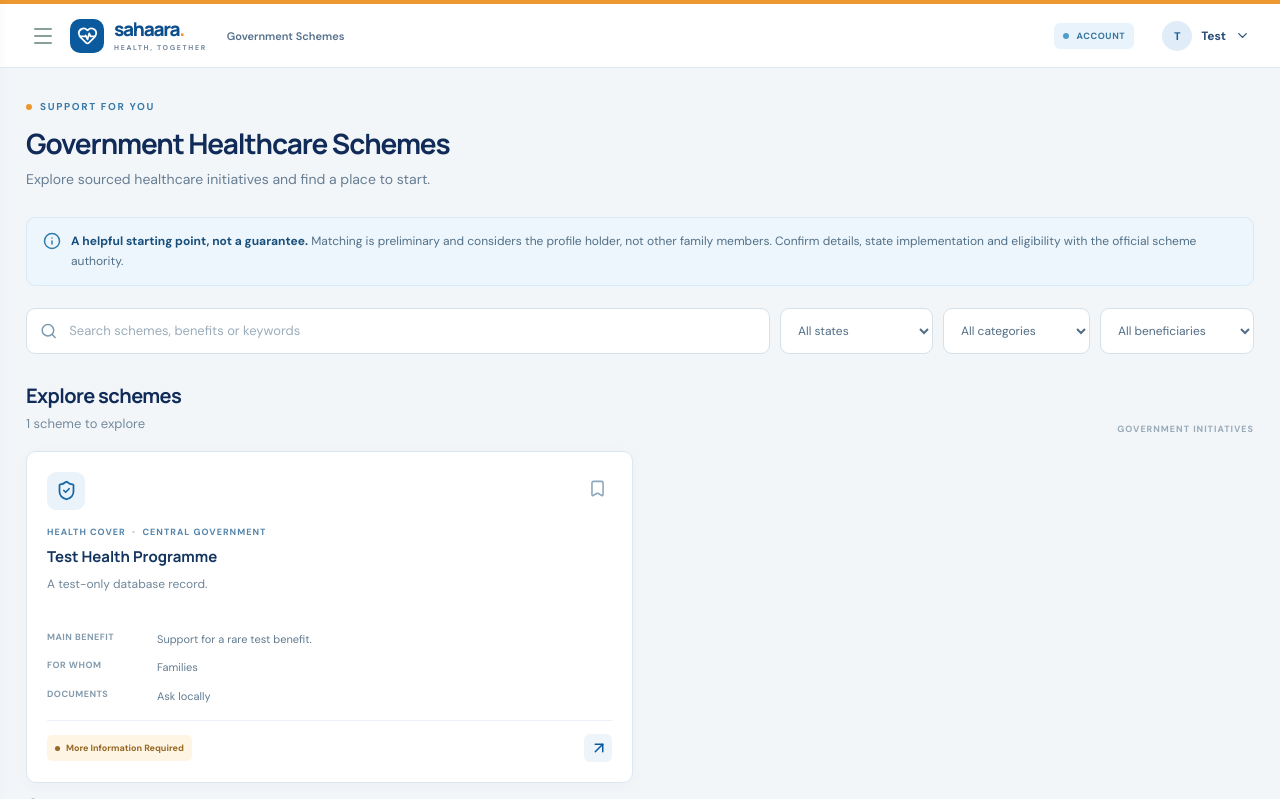
it: account scheme search, details and save update the existing UI through API calls
Earlier steps of the test are not shown.
Expected: the button "Test Health Programme" is shown, [47,546,217,567]
In the field with placeholder "Search schemes, benefits or keywords": (412, 331) [67,309,756,353], type "rare test benefit"
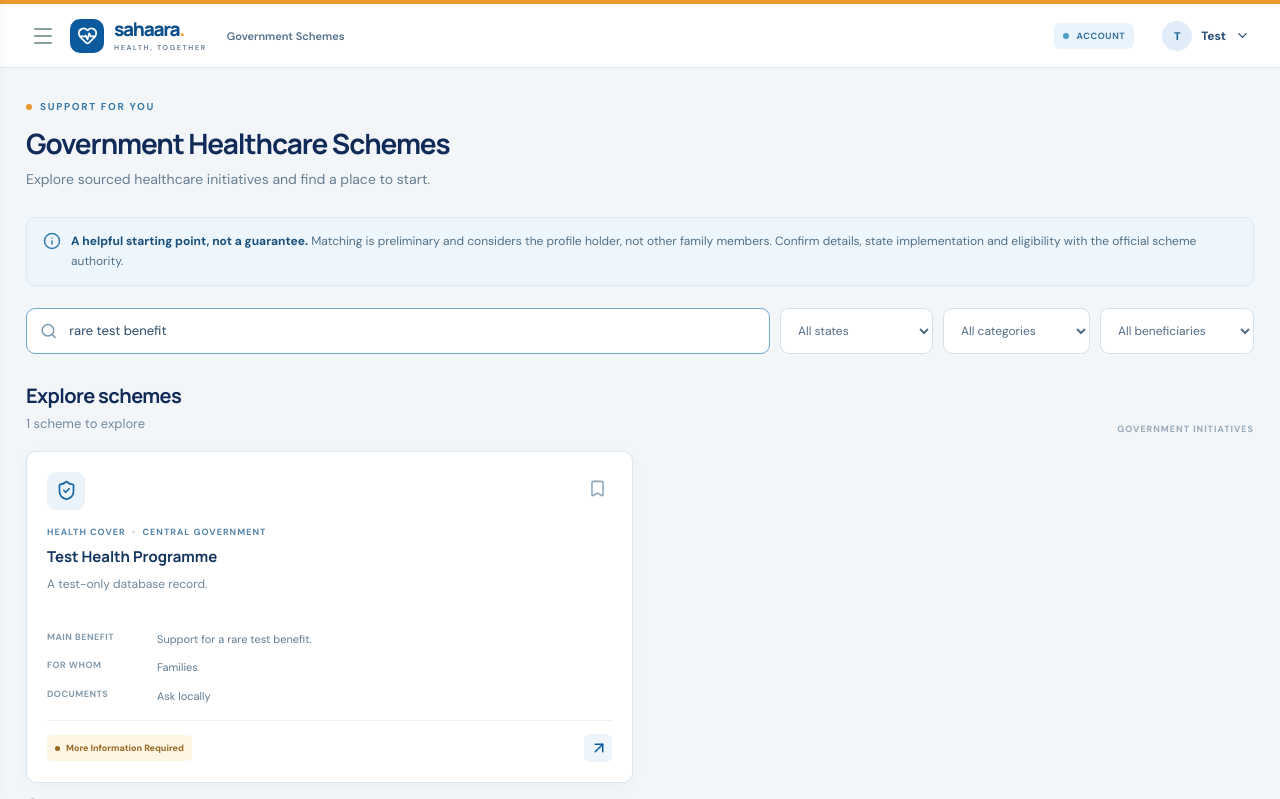
Select "Health cover" in the dropdown named "Filter by category": (1016, 331) [943,308,1090,354]
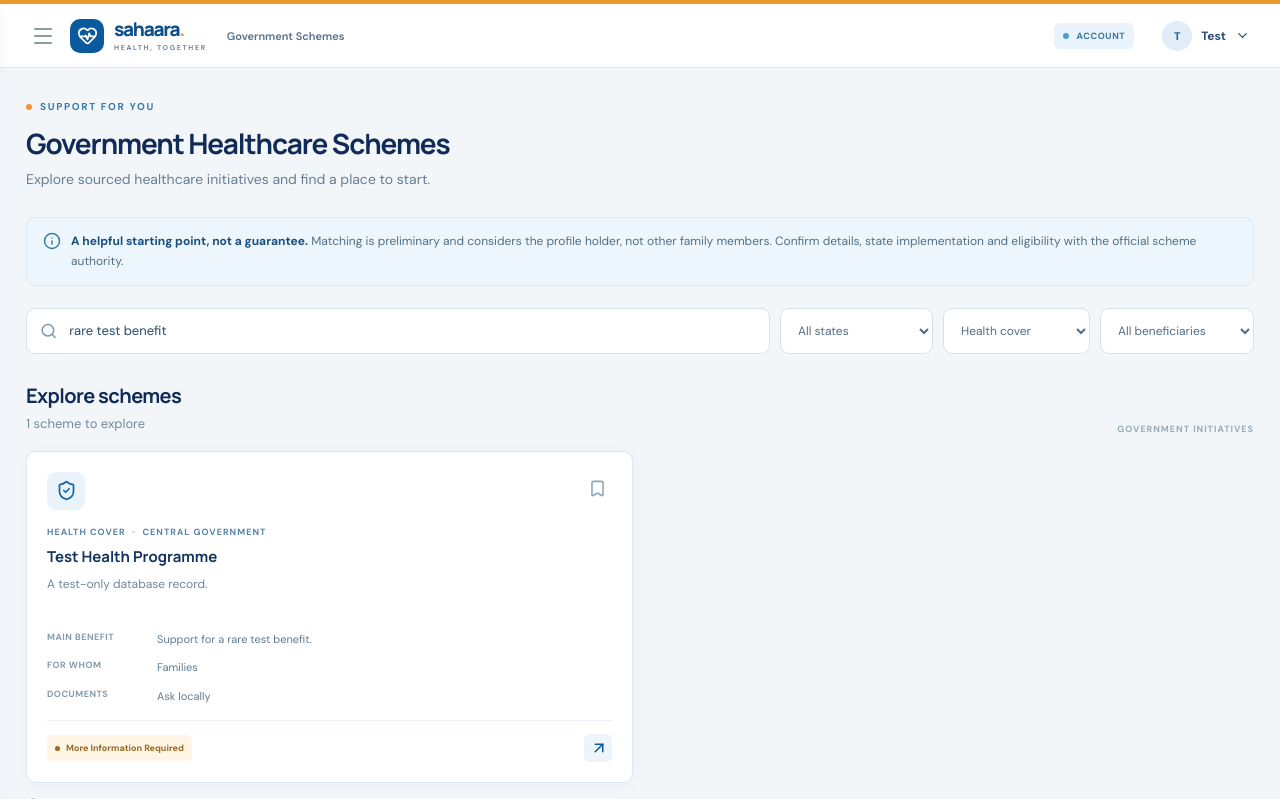
Click the button "Test Health Programme": click(132, 556) [47,546,217,567]
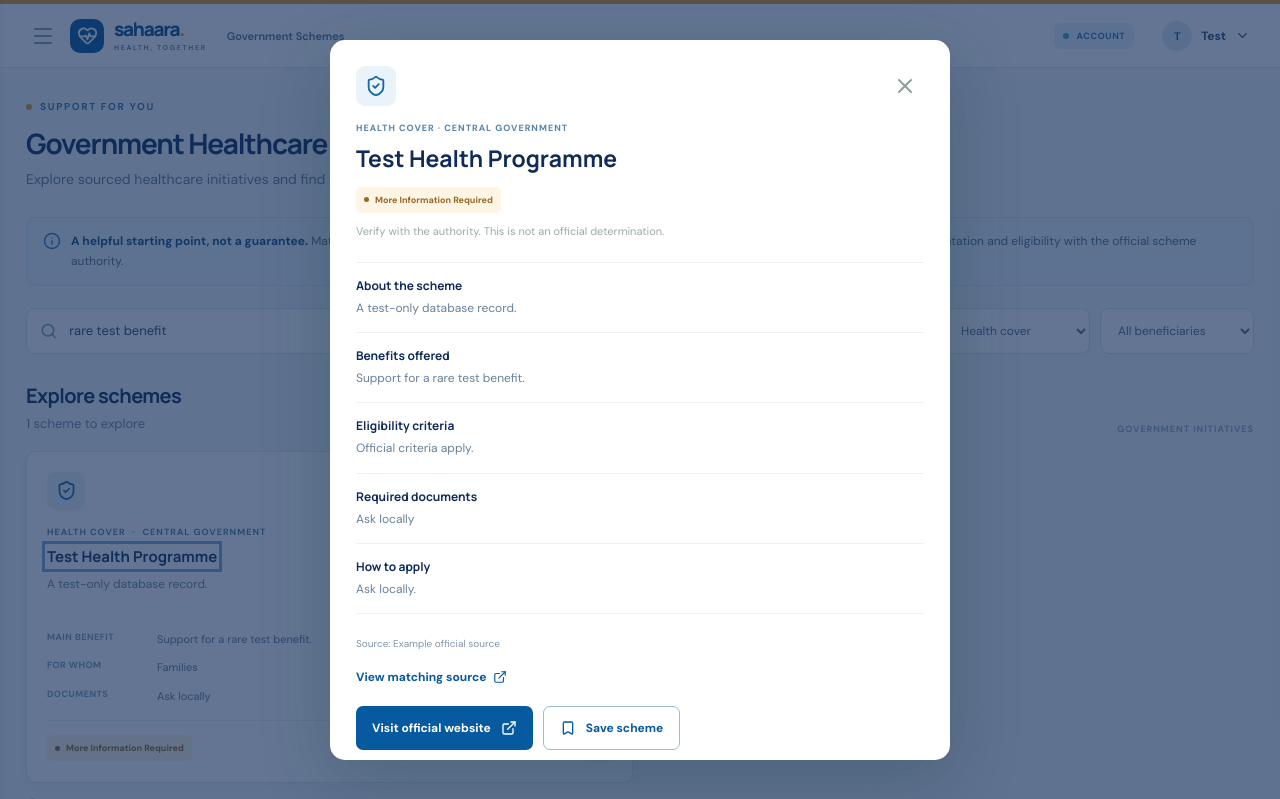
Expected: the text "Verify with the authority" is shown, [356,224,481,238]
Click the button "Save scheme": click(612, 728) [543,706,680,750]
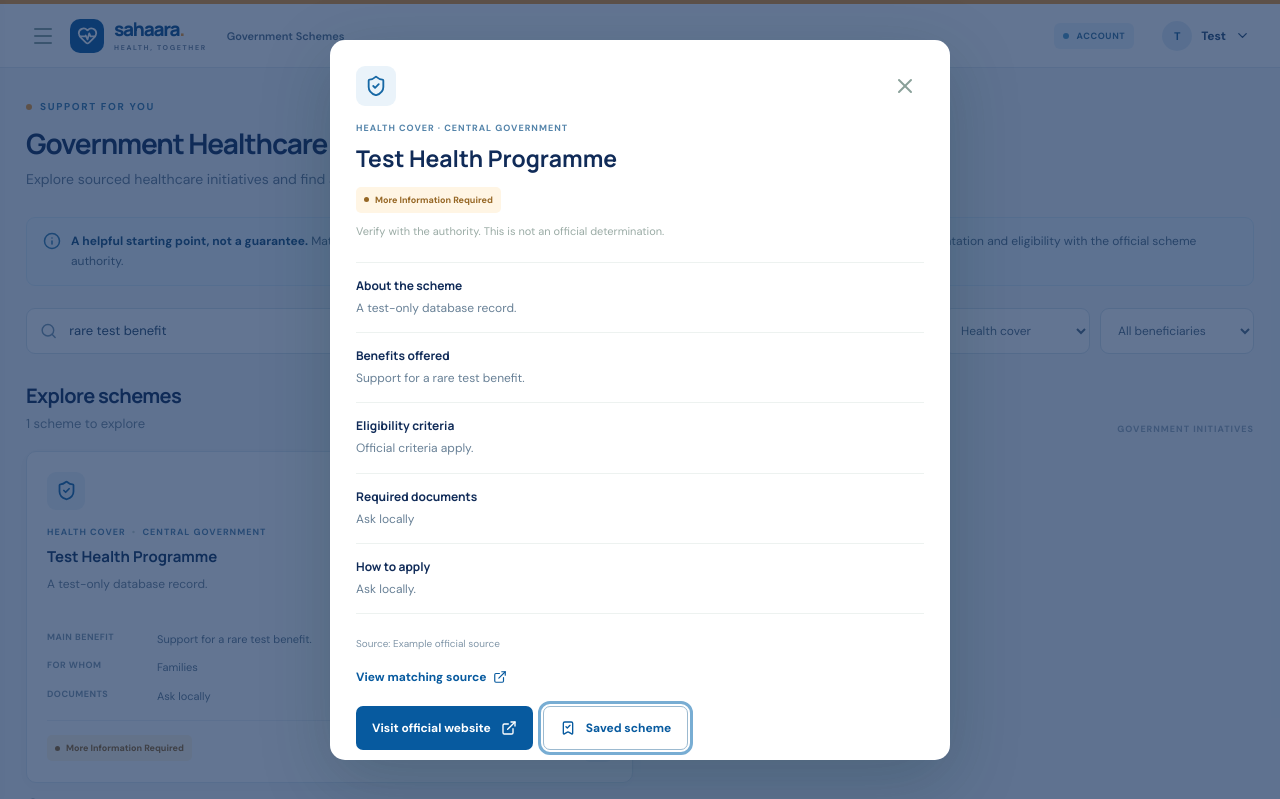
Expected: the button "Saved scheme" is shown
Click the button "Saved scheme": click(615, 728) [543,706,688,750]
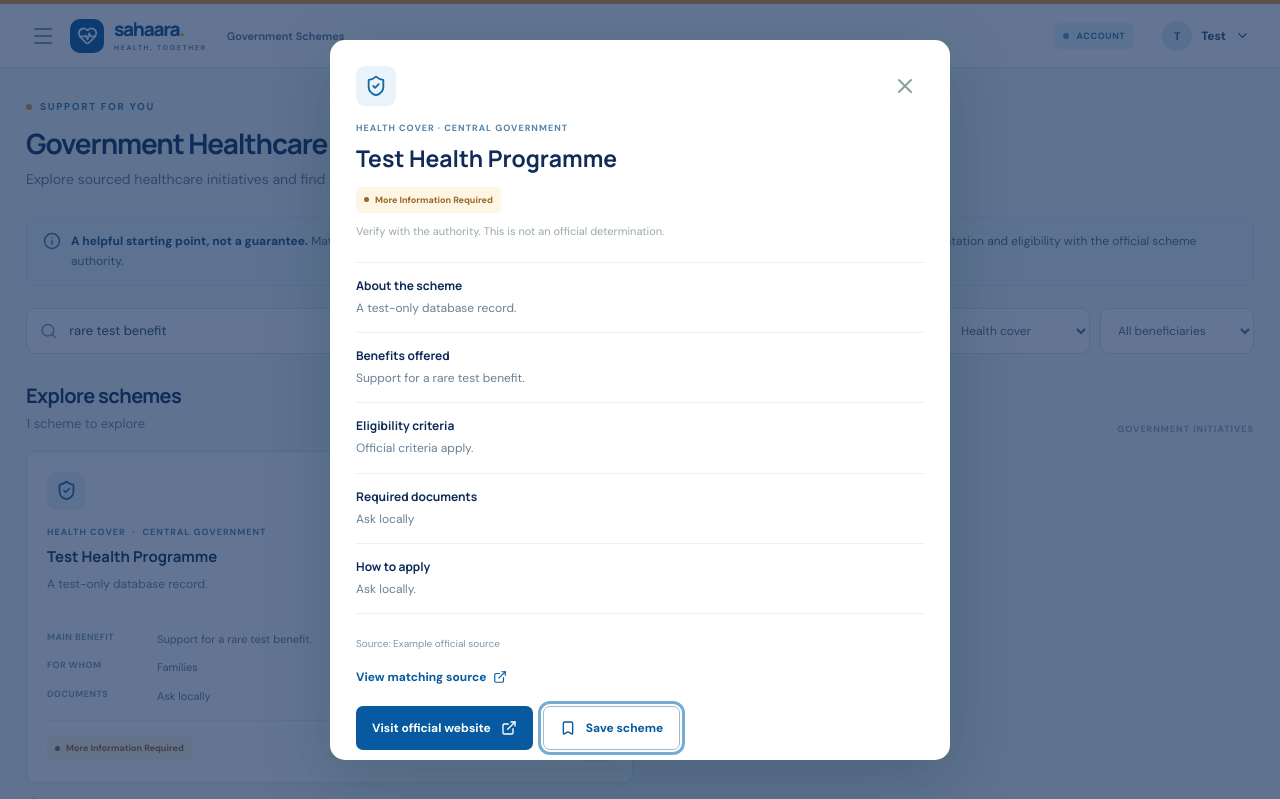
Expected: the button "Save scheme" is shown, [543,706,680,750]
